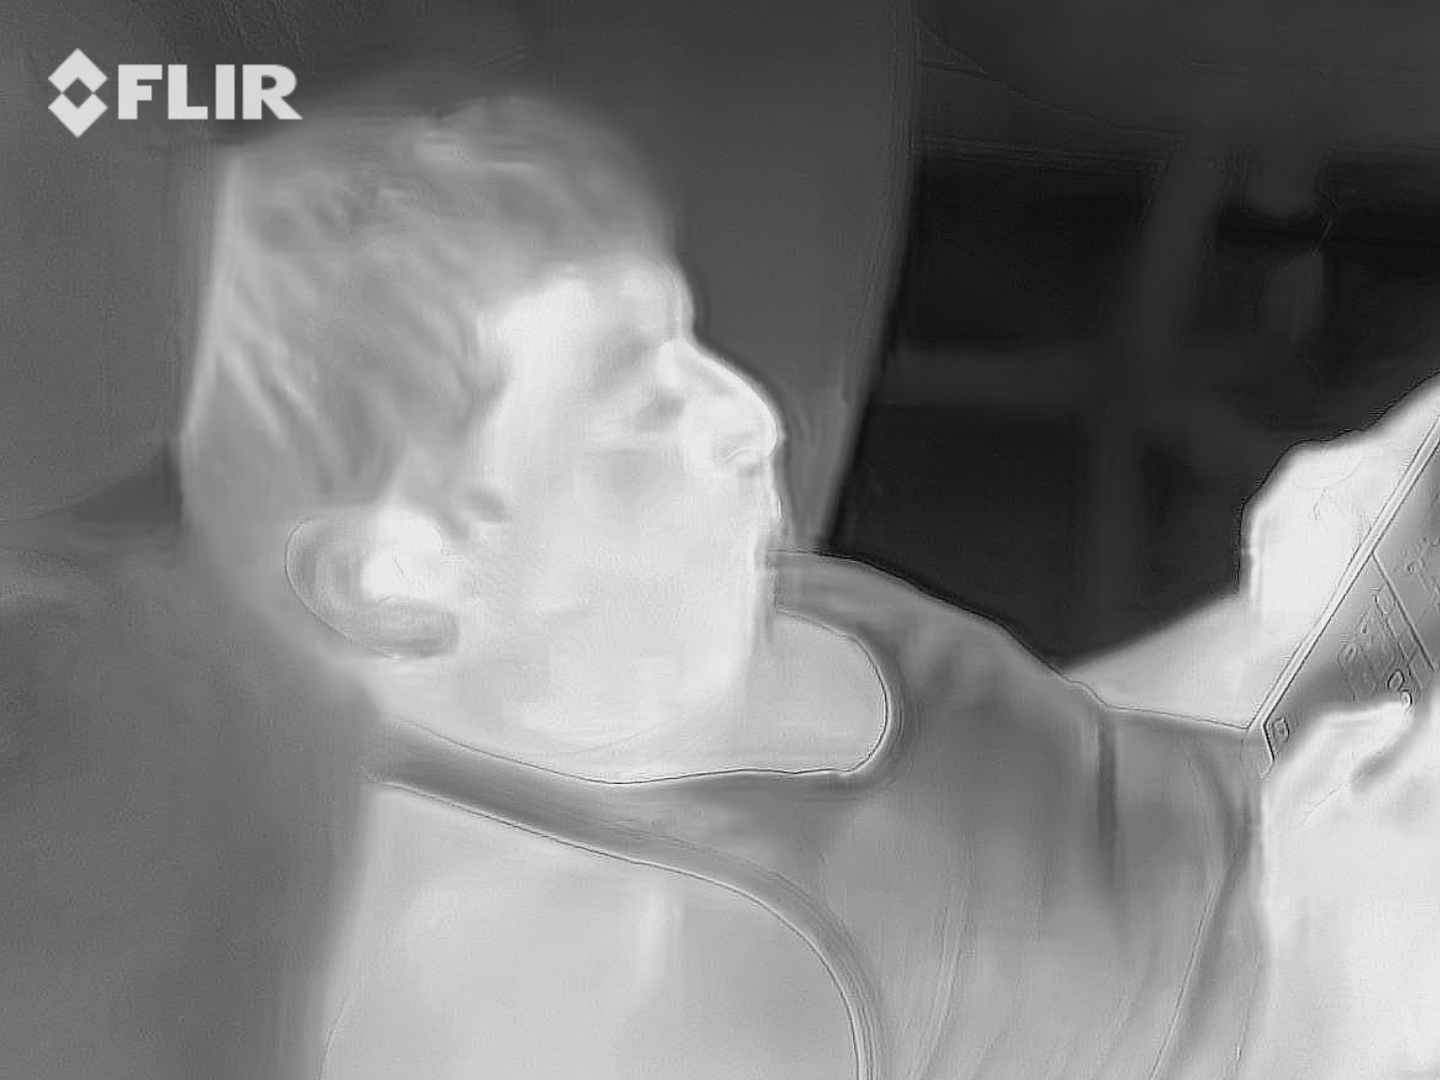head: (175, 71, 795, 748)
